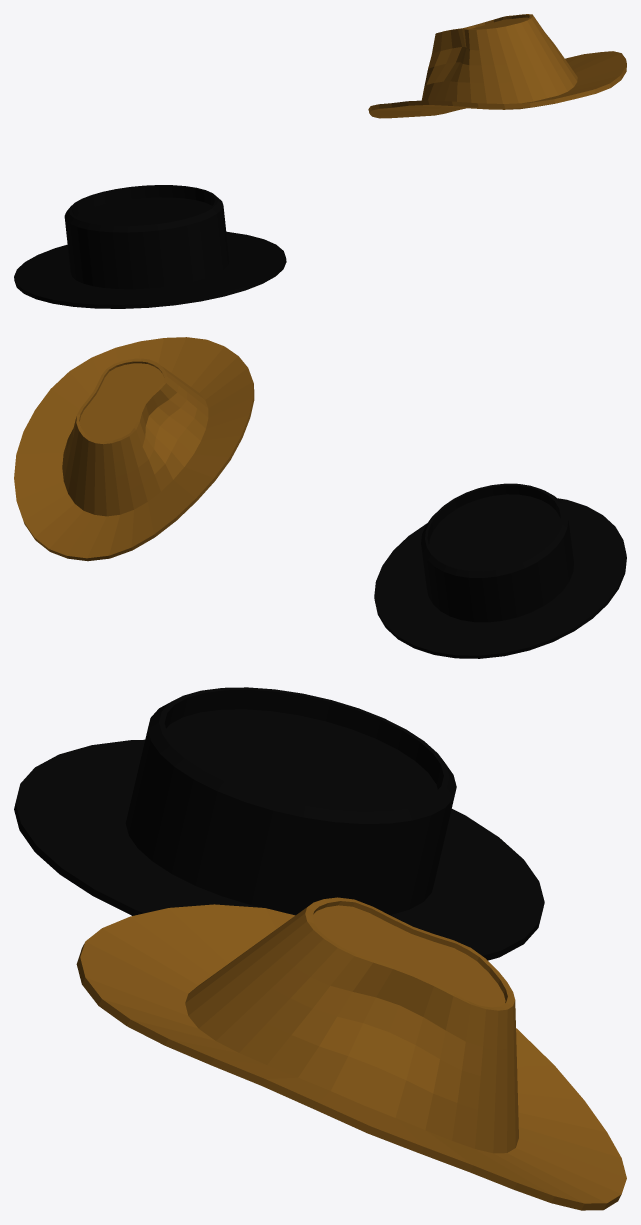
The model's file is Hats.fbx.
3 views of the same model, one above another, from view 1: azimuth 30°, elevation 25°; view 2: azimuth 150°, elevation 25°; view 3: azimuth 270°, elevation 25° (orthographic). The views are drawn at different scales.
Parts seen in each view (by area): view 1: Cylinder, Cylinder.001; view 2: Cylinder.001, Cylinder; view 3: Cylinder.001, Cylinder.
Part boxes in pixels (x1,y1,x2,y2): Cylinder: [14, 185, 286, 308]; Cylinder.001: [368, 14, 626, 118]; Cylinder.001: [14, 337, 254, 561]; Cylinder: [374, 483, 626, 658]; Cylinder.001: [76, 897, 626, 1210]; Cylinder: [14, 687, 544, 960].
Bounding box in the file's own units: 162 × 46.91 × 80.3.
